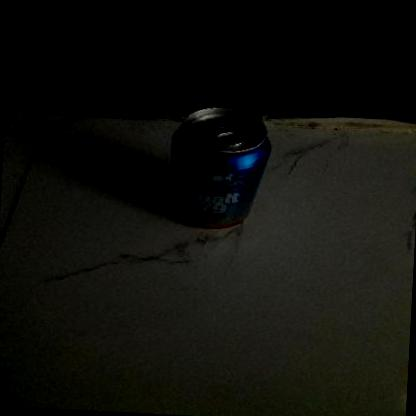alumunium_can: (165, 101, 272, 233)
